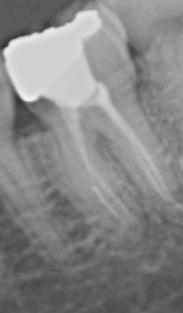fracture: (90, 183, 126, 227)
